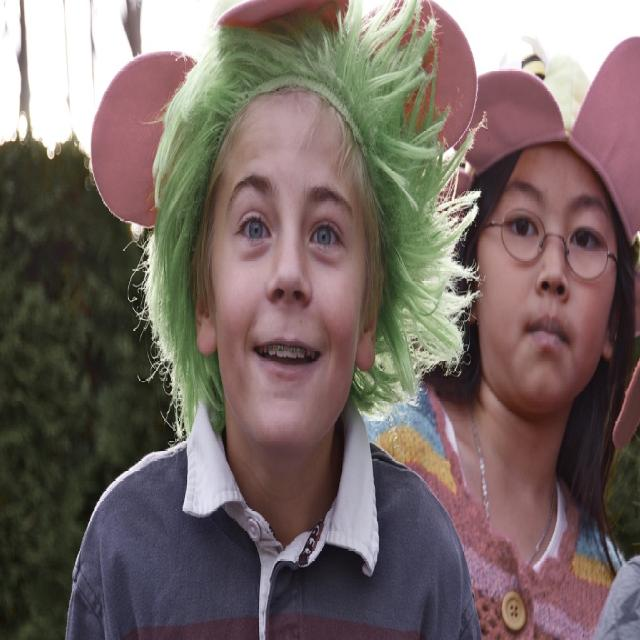Hat: (90, 0, 479, 233), (436, 36, 639, 446)
